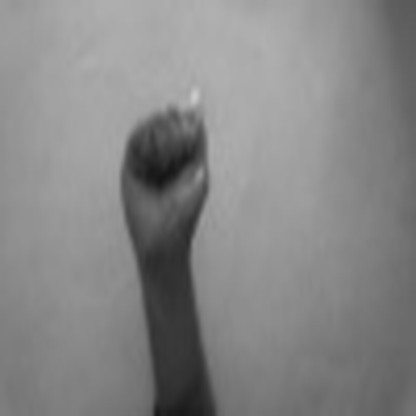a: (106, 87, 217, 251)
